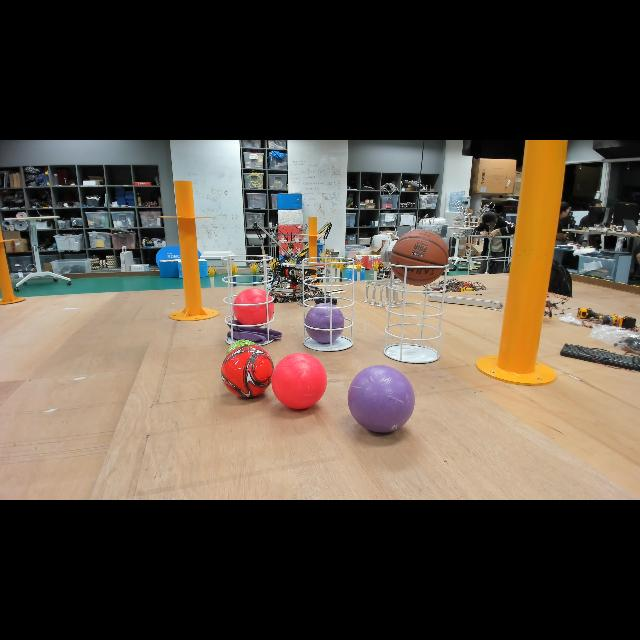P: (345, 364, 417, 438), (302, 300, 348, 346)
R: (270, 351, 330, 414), (232, 287, 276, 329)
S: (382, 260, 450, 364), (220, 255, 276, 348), (301, 256, 355, 352)
